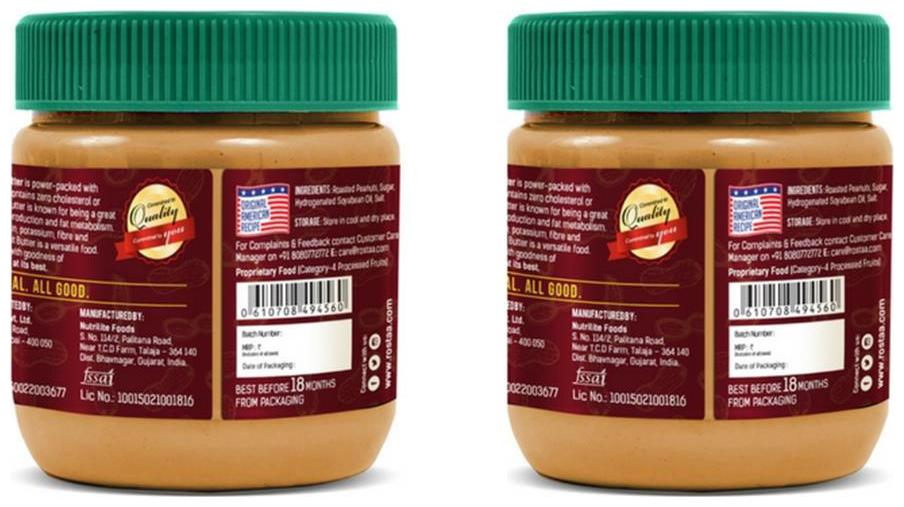fssai: (77, 366, 115, 387), (572, 366, 608, 387)
